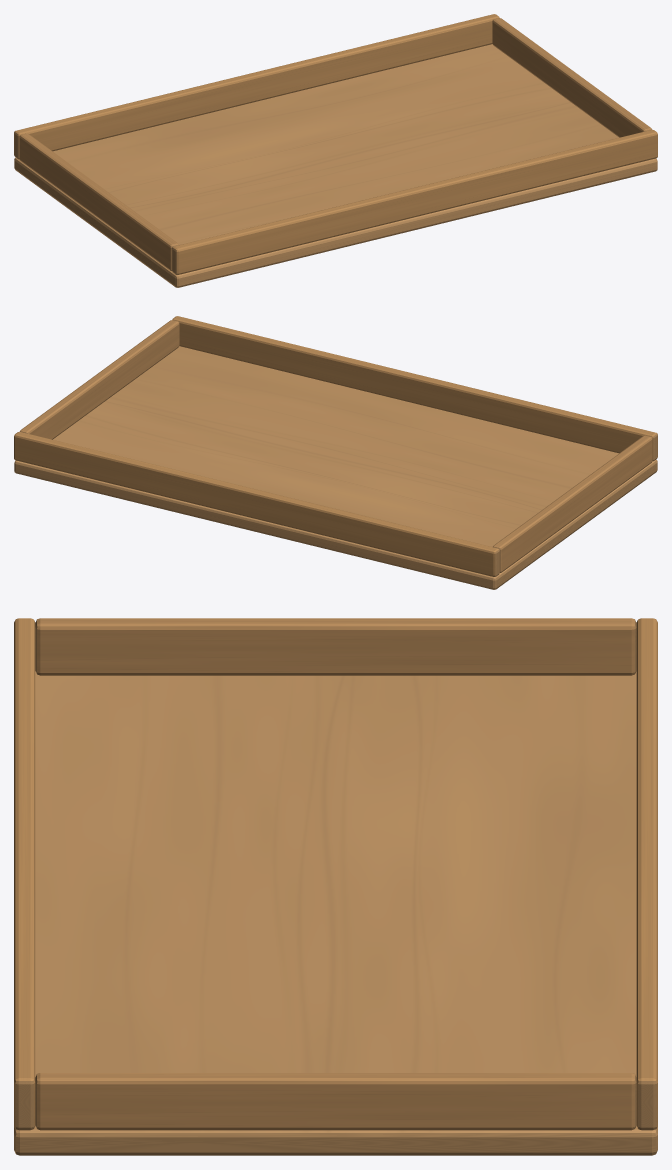
The model's file is shallow-tray.glb.
3 renders of one model, top to bottom at view 1: azimuth 30°, elevation 25°; view 2: azimuth 150°, elevation 25°; view 3: azimuth 270°, elevation 25°, orthographic. The views are drawn at different scales.
Parts seen in each view (by area): view 1: paper-foundation-v1/shallow-tray; view 2: paper-foundation-v1/shallow-tray; view 3: paper-foundation-v1/shallow-tray.
Boxes of the visible parts, x1,y1,x2,y2 form: paper-foundation-v1/shallow-tray: [14, 14, 657, 287]; paper-foundation-v1/shallow-tray: [14, 316, 657, 589]; paper-foundation-v1/shallow-tray: [14, 618, 657, 1155].
Size of the model in its own units: 0.46 by 0.036 by 0.27.
Materials: 4 (4 with a texture image).
